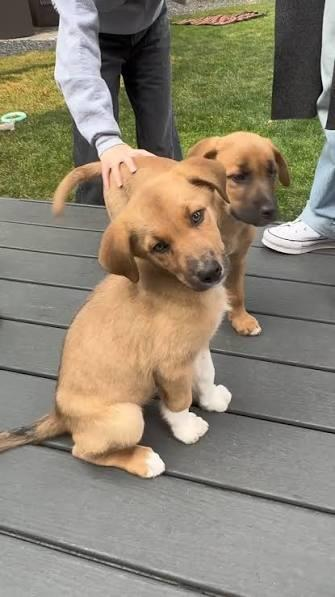non-dog: (50, 0, 183, 192), (263, 0, 335, 256)
puppy-dog: (0, 158, 231, 479), (51, 130, 291, 339)
